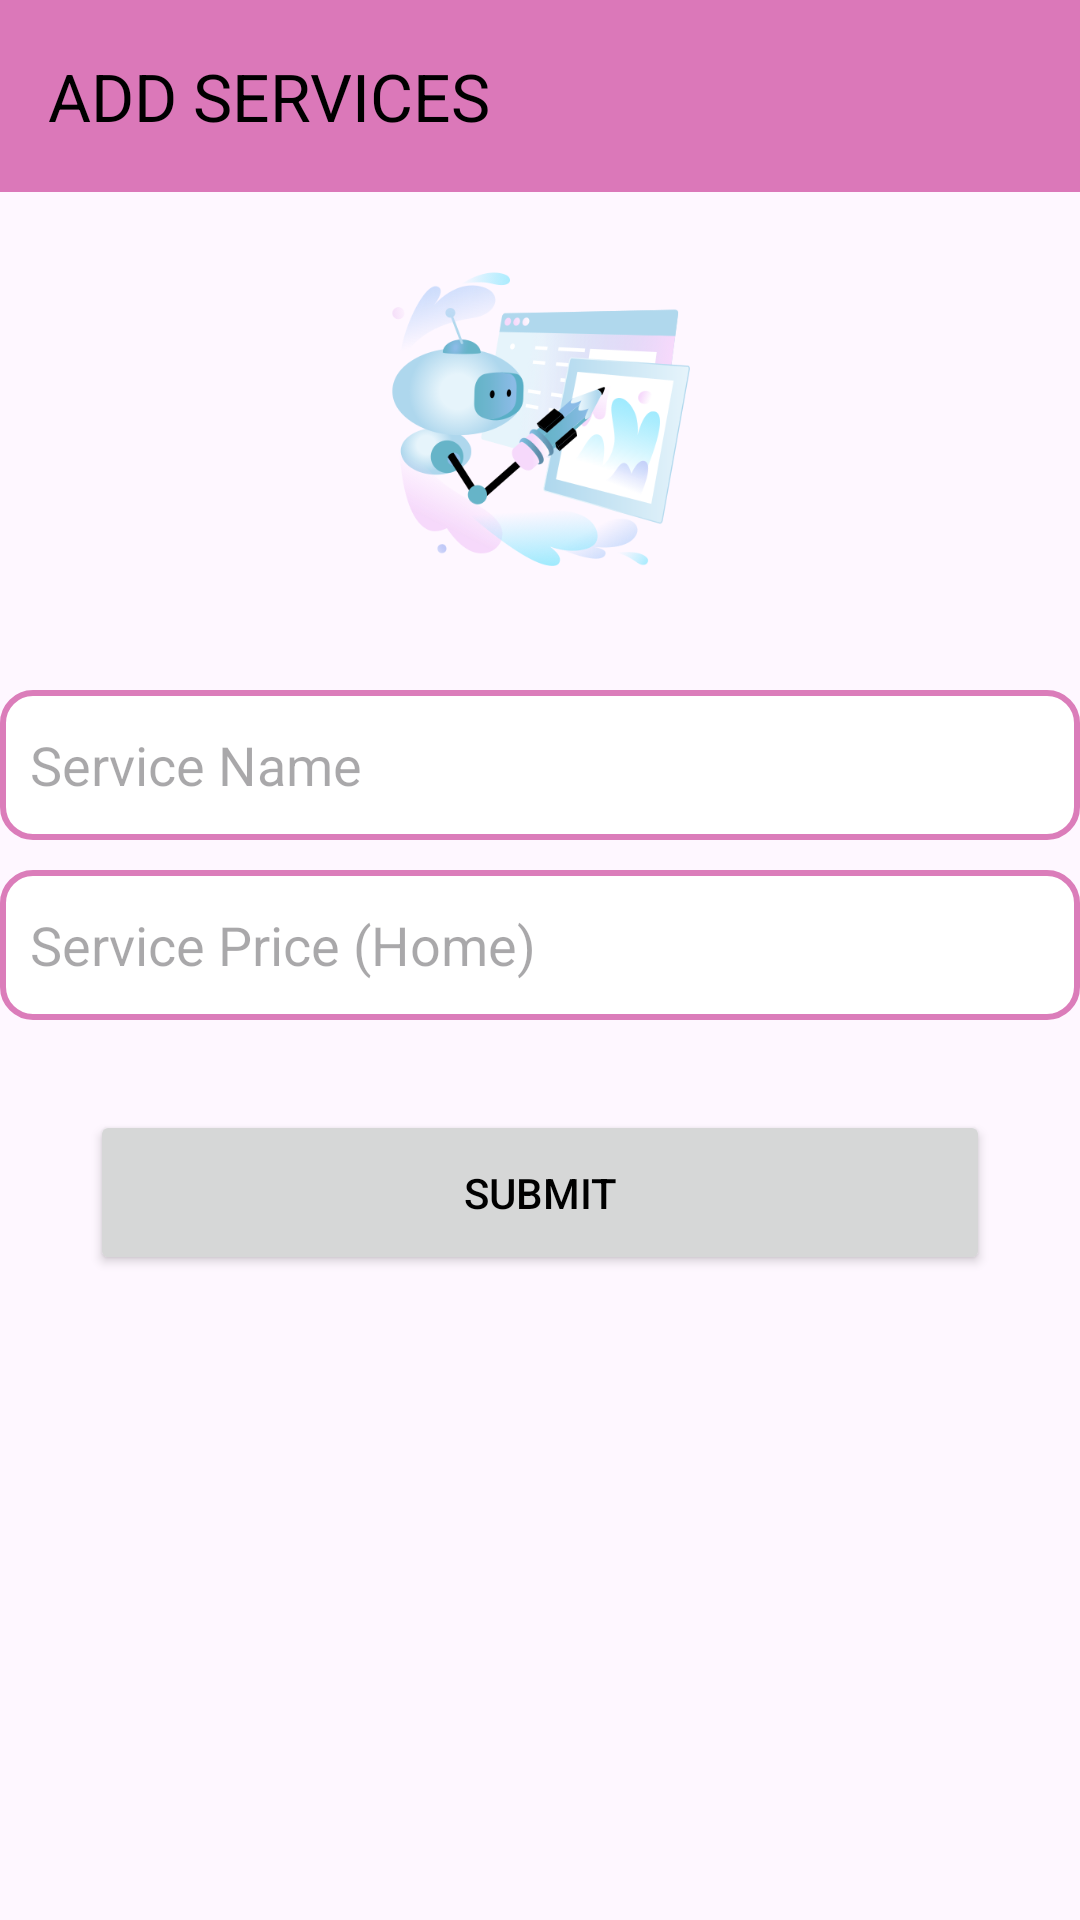

Icon click points for this 1080 × 1920 phone screenshot, format (x=x, y=y):
Image for choosing from gallery: (x=541, y=419)
